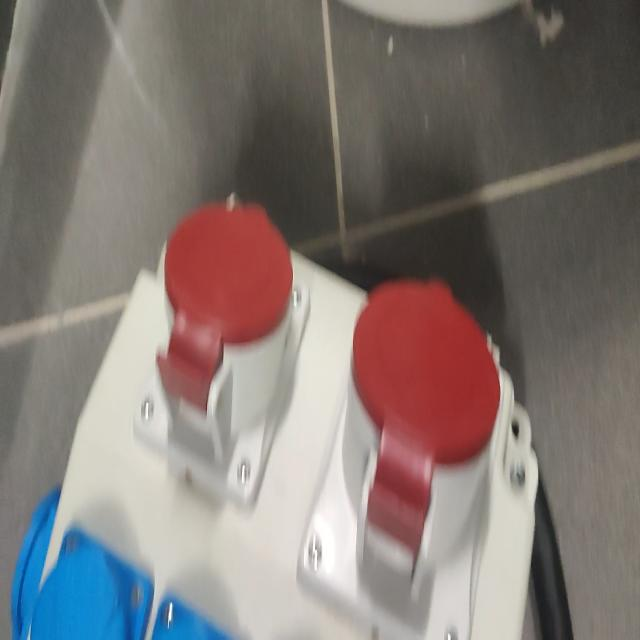400v socket: (299, 283, 505, 637), (129, 203, 313, 515)
house plug covered: (33, 523, 156, 640), (9, 485, 58, 640)
